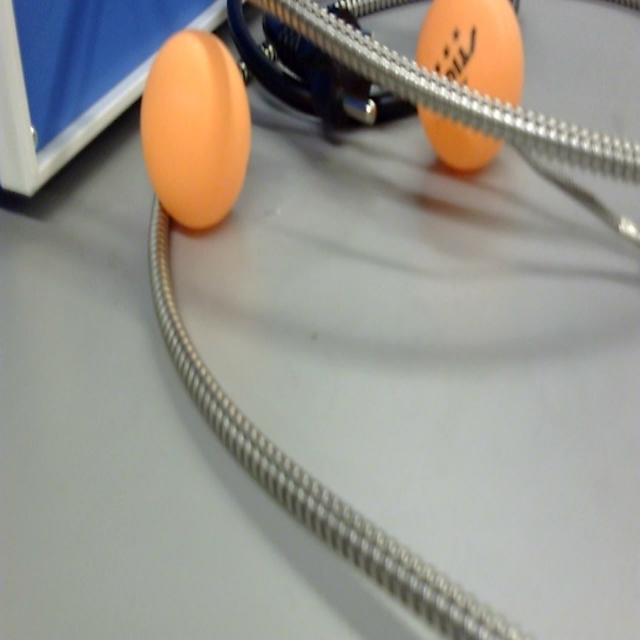ball: (138, 24, 252, 239), (413, 0, 525, 176)
